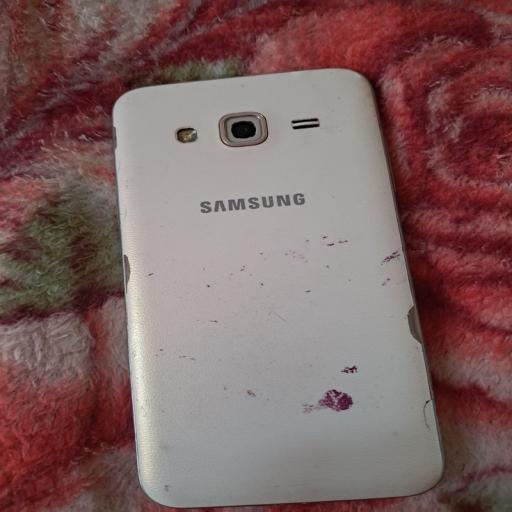people: (114, 69, 443, 507)
